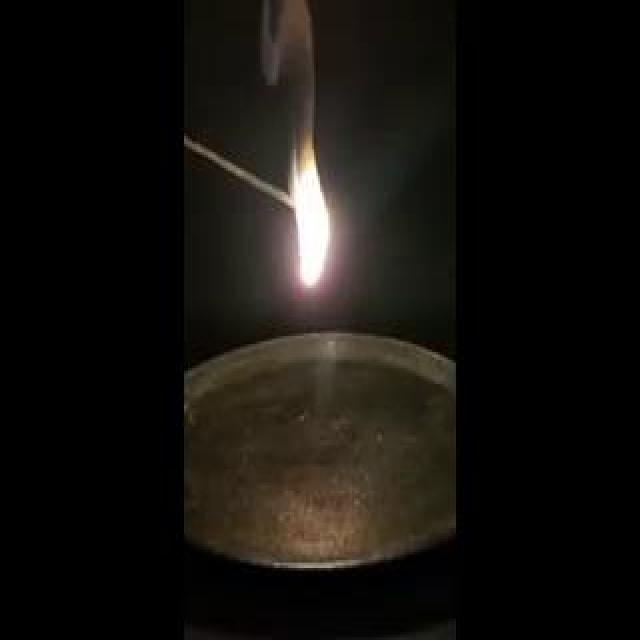Fire: (82, 168, 309, 262)
